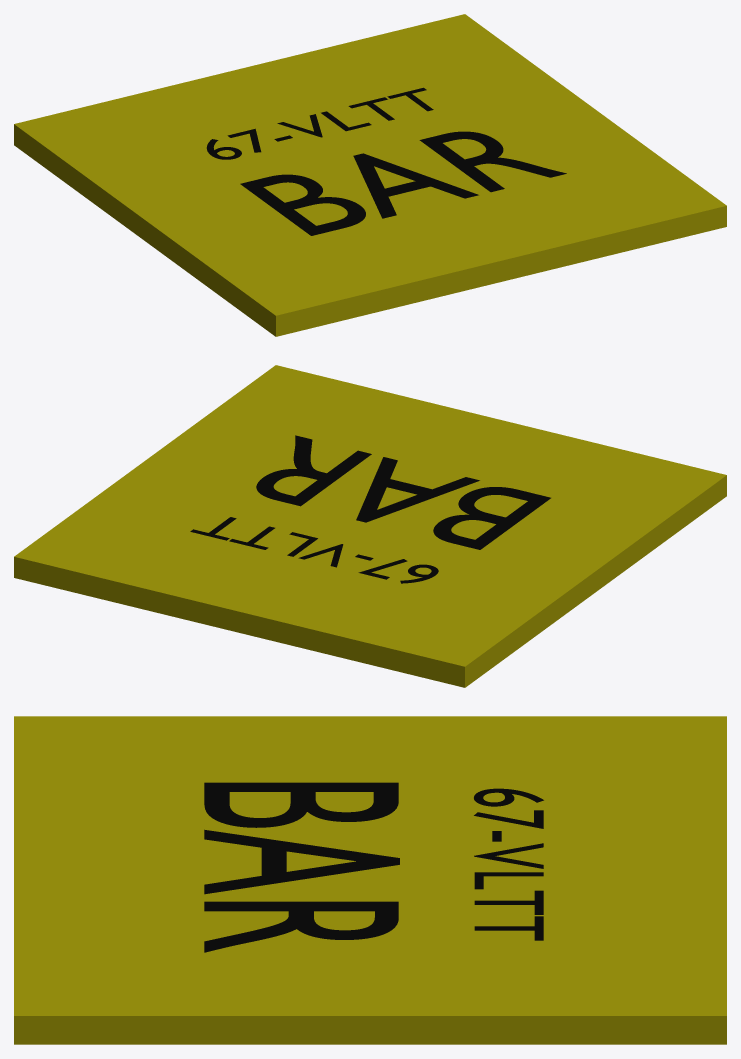
The model's file is vltt_topA.glb.
3 renders of one model, top to bottom at view 1: azimuth 30°, elevation 25°; view 2: azimuth 150°, elevation 25°; view 3: azimuth 270°, elevation 25°, orthographic. The views are drawn at different scales.
Parts seen in each view (by area): view 1: Cube.003, Text.007, Text.008; view 2: Cube.003, Text.007, Text.008; view 3: Cube.003, Text.007, Text.008.
Part boxes in pixels (x1,y1,x2,y2): Cube.003: (14,14,726,336); Text.007: (240,131,566,235); Text.008: (206,87,433,159); Cube.003: (14,365,726,687); Text.007: (256,435,550,549); Text.008: (190,517,438,583); Cube.003: (14,716,726,1044); Text.007: (204,782,399,952); Text.008: (474,788,543,940).
Size of the model in its own units: 1.99 by 0.1007 by 2.
